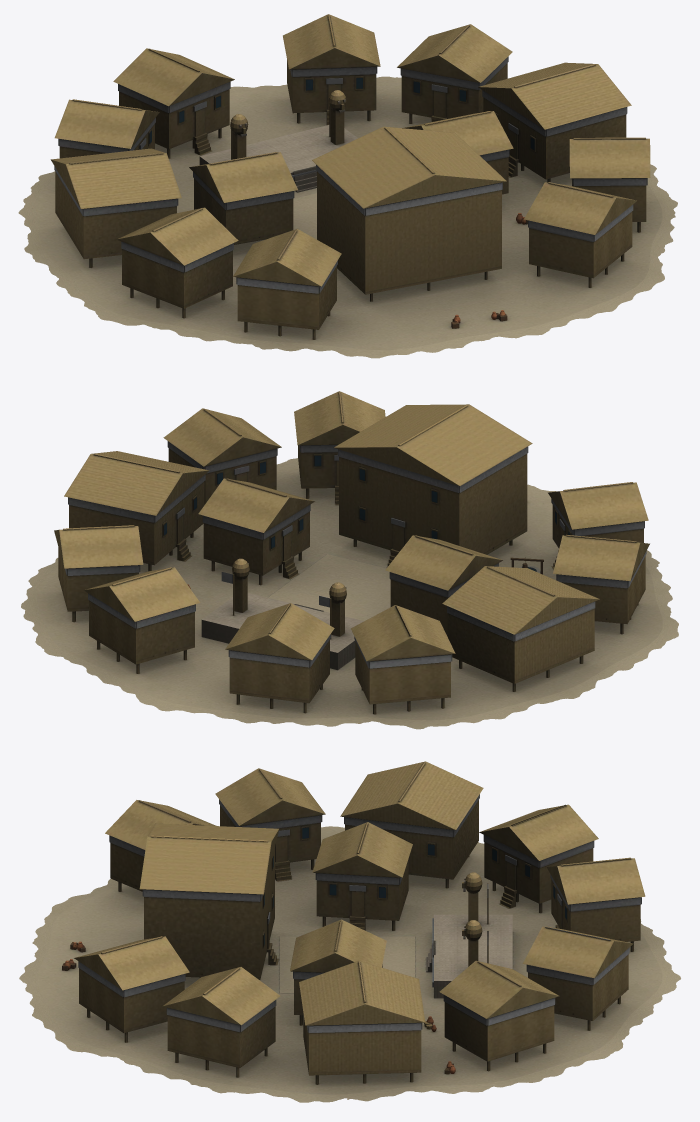
Rendered from bronze-town-medium-a-pacific.glb.
The picture shows the model from 3 angles, top to bottom: view 1: azimuth 30°, elevation 25°; view 2: azimuth 150°, elevation 25°; view 3: azimuth 270°, elevation 25°; orthographic projection.
Parts seen in each view (by area): view 1: LOD0; view 2: LOD0; view 3: LOD0.
Part boxes in pixels (box(x1,y1,x2,y2)): LOD0: box(18, 14, 677, 358); LOD0: box(21, 391, 678, 729); LOD0: box(19, 761, 680, 1102).
Size of what is drawn, in the model's own units: 5.98 by 1.22 by 5.98.
Materials: 3 (3 with a texture image).
